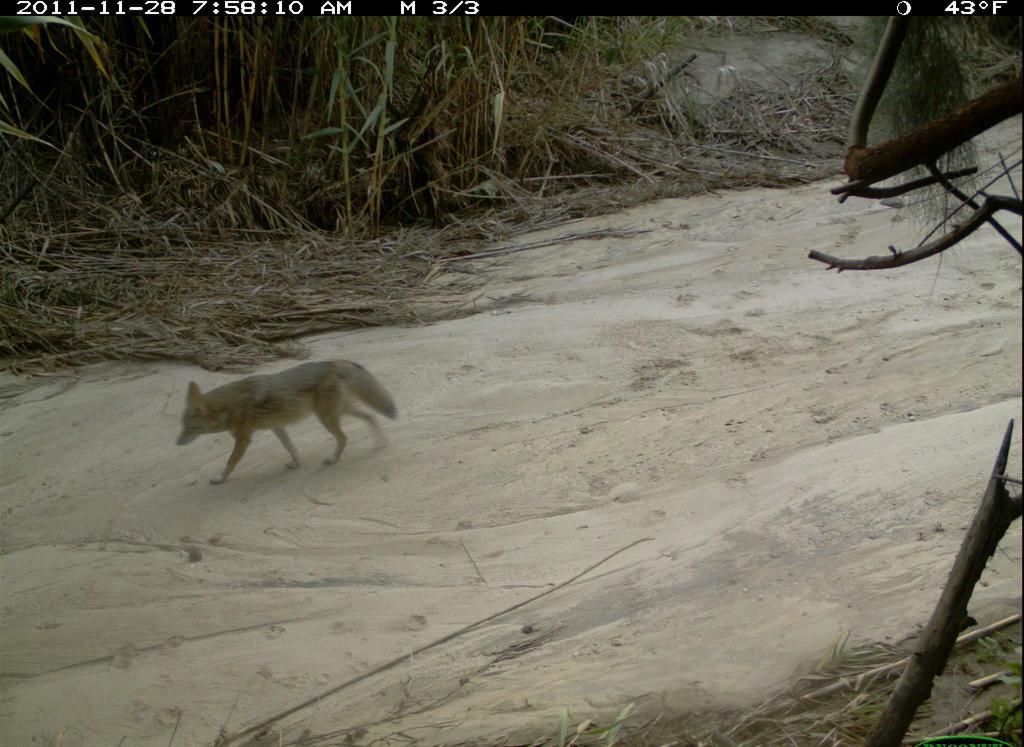coyote: (168, 358, 447, 511)
